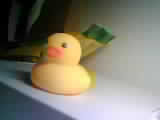duck: (26, 28, 92, 81)
